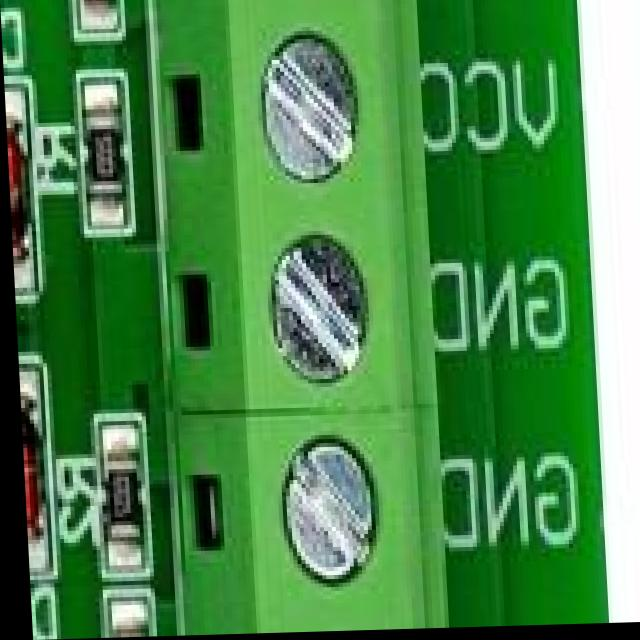connector: (144, 0, 438, 637)
diode: (3, 83, 36, 304), (15, 371, 47, 556)
resistor: (79, 81, 129, 212), (100, 429, 143, 574), (101, 601, 142, 638), (76, 0, 117, 26)
